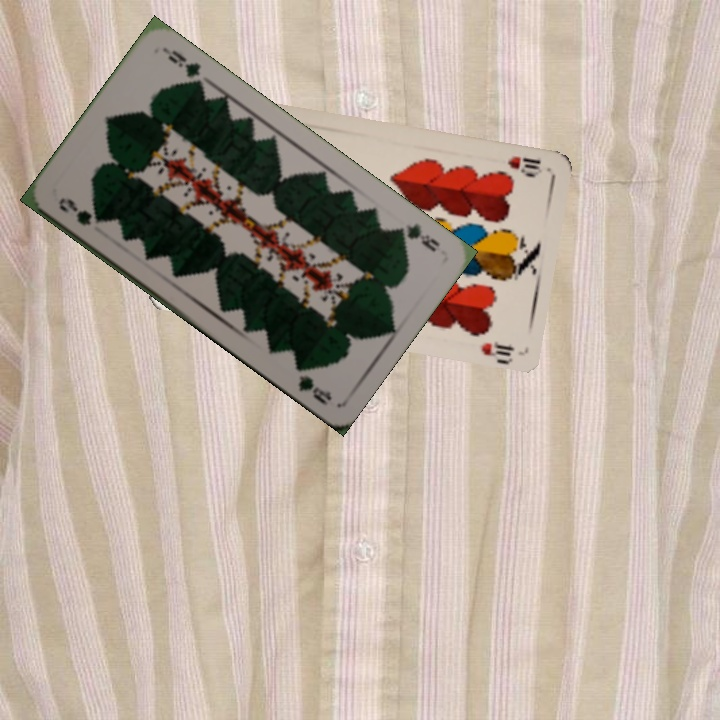G9: (389, 219, 443, 255), (54, 193, 106, 229)
H10: (504, 152, 545, 179)
